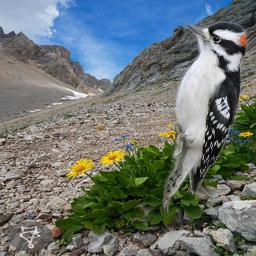Woodpecker: (162, 13, 256, 214)
